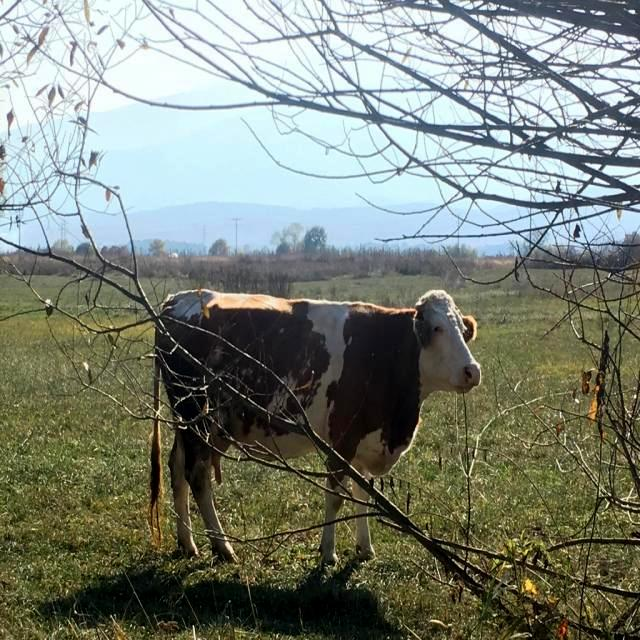COW: (150, 289, 480, 564)
